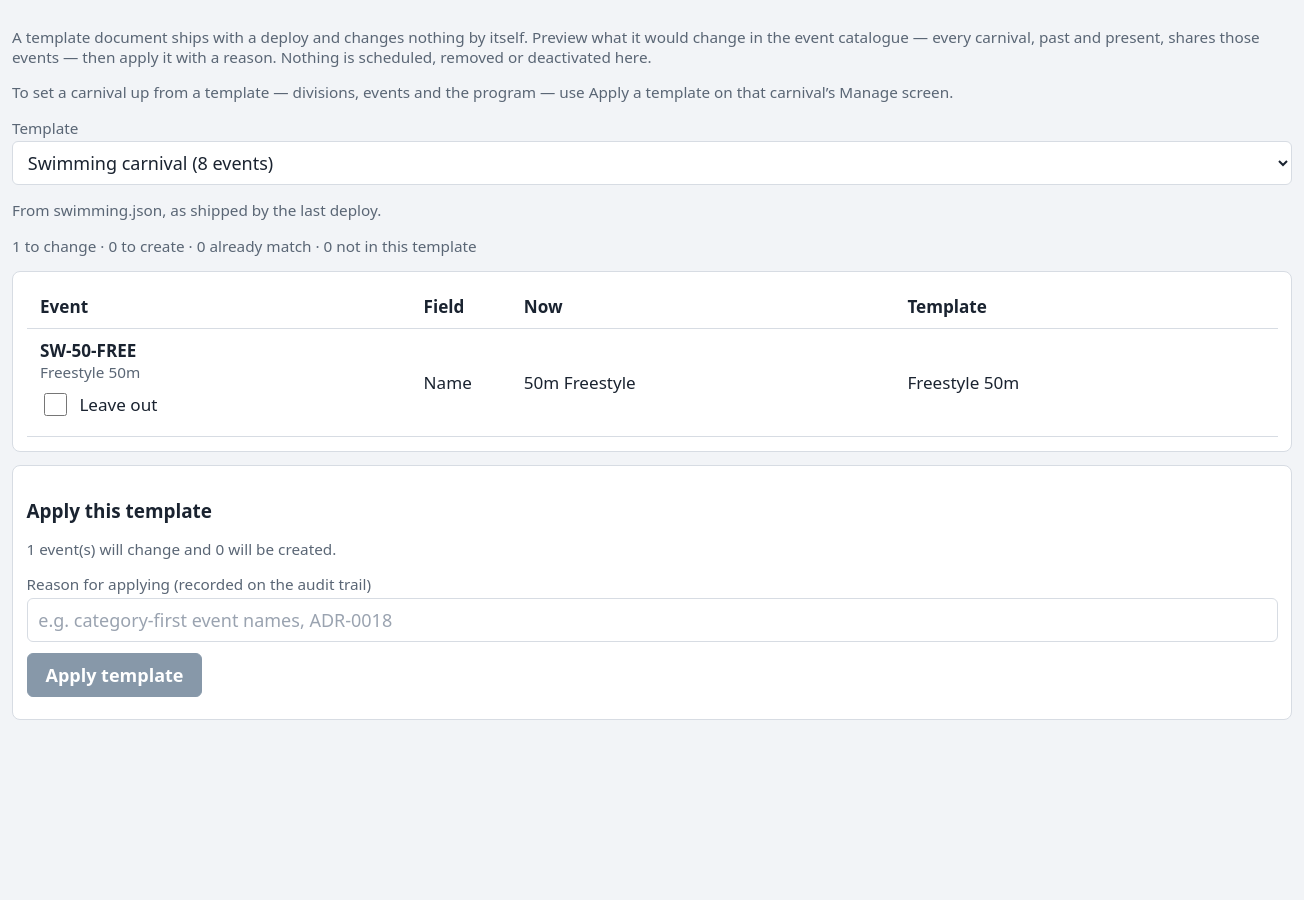
Scenario: TemplatesSection › cannot apply until a reason is typed
The width and height of the screenshot is (1304, 900).
expect the button "Apply template" is disabled: met, box x1=26 y1=653 x2=202 y2=697
Step 1. Type "Category-first names." into the field labelled "Reason for applying (recorded on the audit trail)" → (652, 620), box x1=26 y1=598 x2=1278 y2=642
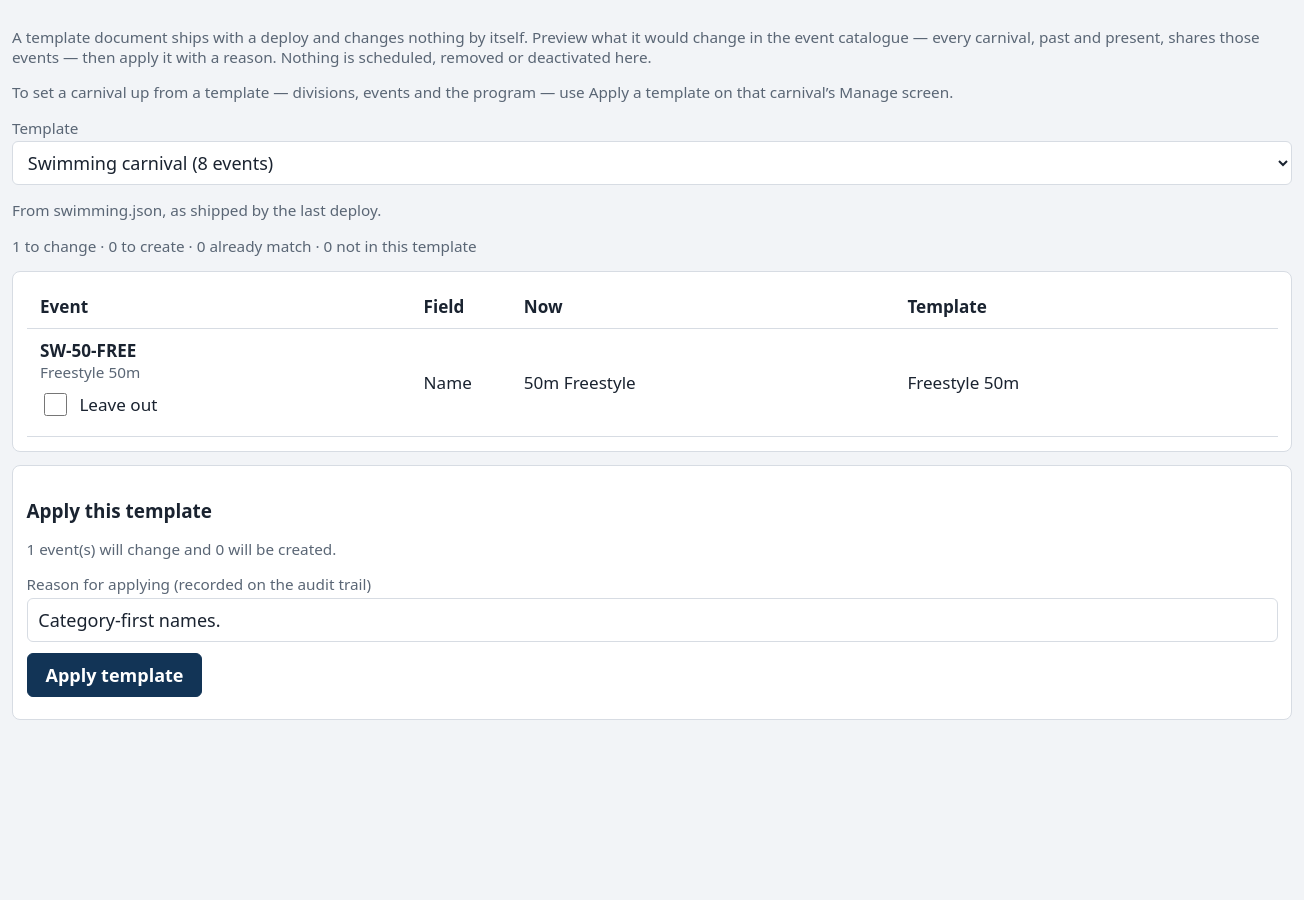
expect the button "Apply template" is enabled: met, box x1=26 y1=653 x2=202 y2=697
